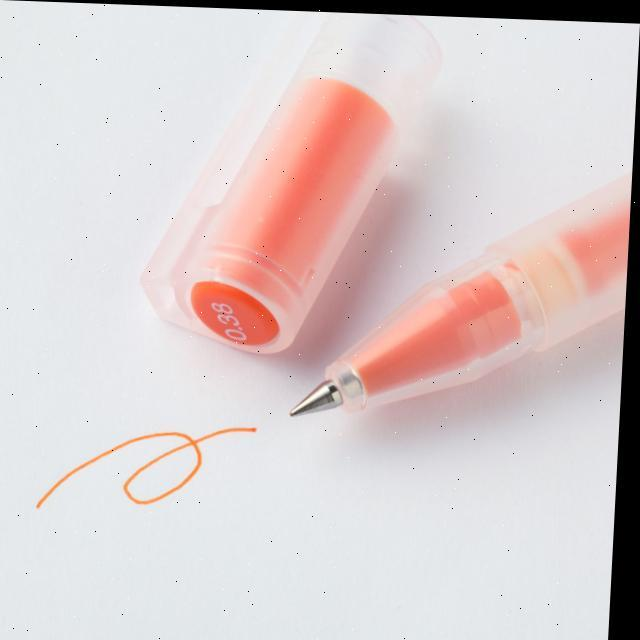pen: (139, 5, 445, 358), (292, 154, 634, 426)
